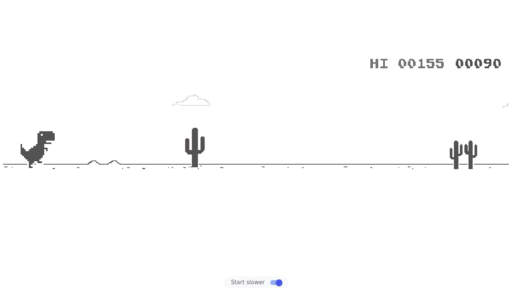dino: (19, 131, 56, 169)
tree: (184, 128, 206, 169), (449, 140, 478, 169)
